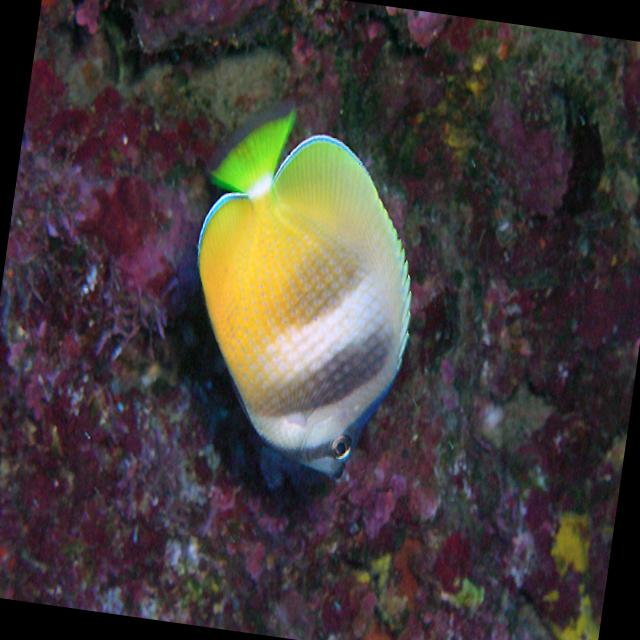ButterflyFish: (164, 100, 439, 496)
